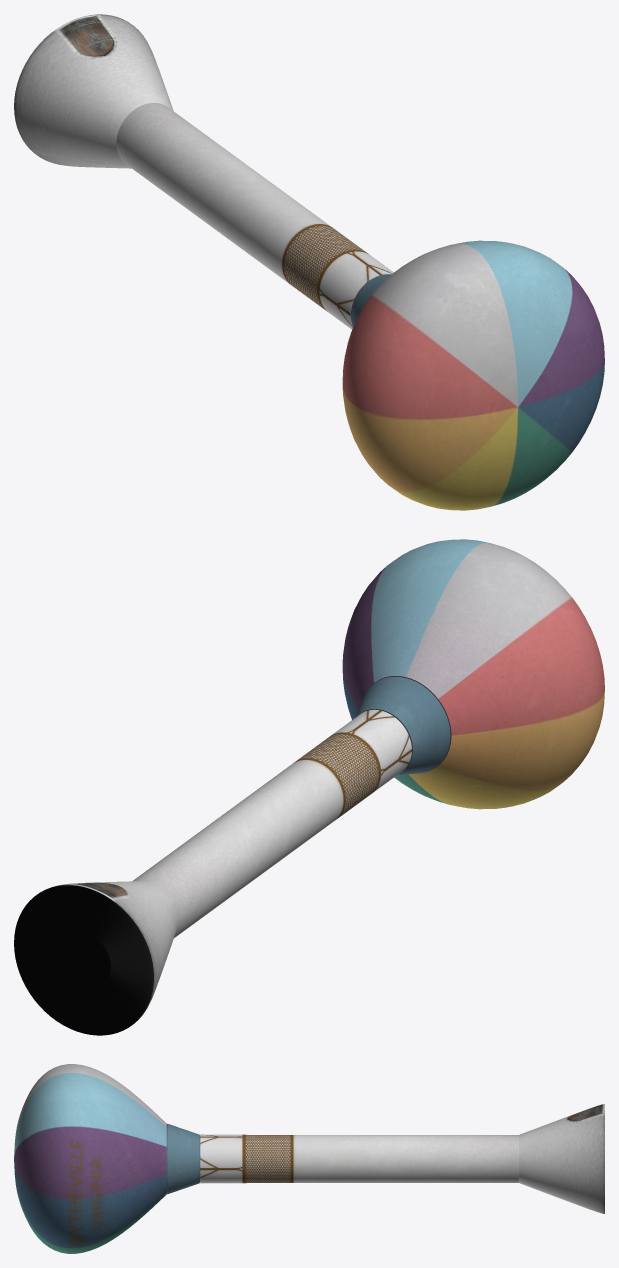
File: 10092_Water Tower_SG_V1_Iterations-2.obj
The picture shows the model from 3 angles, top to bottom: view 1: azimuth 30°, elevation 25°; view 2: azimuth 150°, elevation 25°; view 3: azimuth 270°, elevation 25°; orthographic projection. The views are drawn at different scales.
Parts seen in each view (by area): view 1: 10092_Water_Tower_SG_V1; view 2: 10092_Water_Tower_SG_V1; view 3: 10092_Water_Tower_SG_V1.
Boxes of the visible parts, x1,y1,x2,y2 form: 10092_Water_Tower_SG_V1: (14, 14, 604, 510); 10092_Water_Tower_SG_V1: (14, 539, 604, 1035); 10092_Water_Tower_SG_V1: (14, 1064, 604, 1253).
Size of the model in its own units: 1178 by 1178 by 3663.
Materials: 1 (1 with a texture image).
